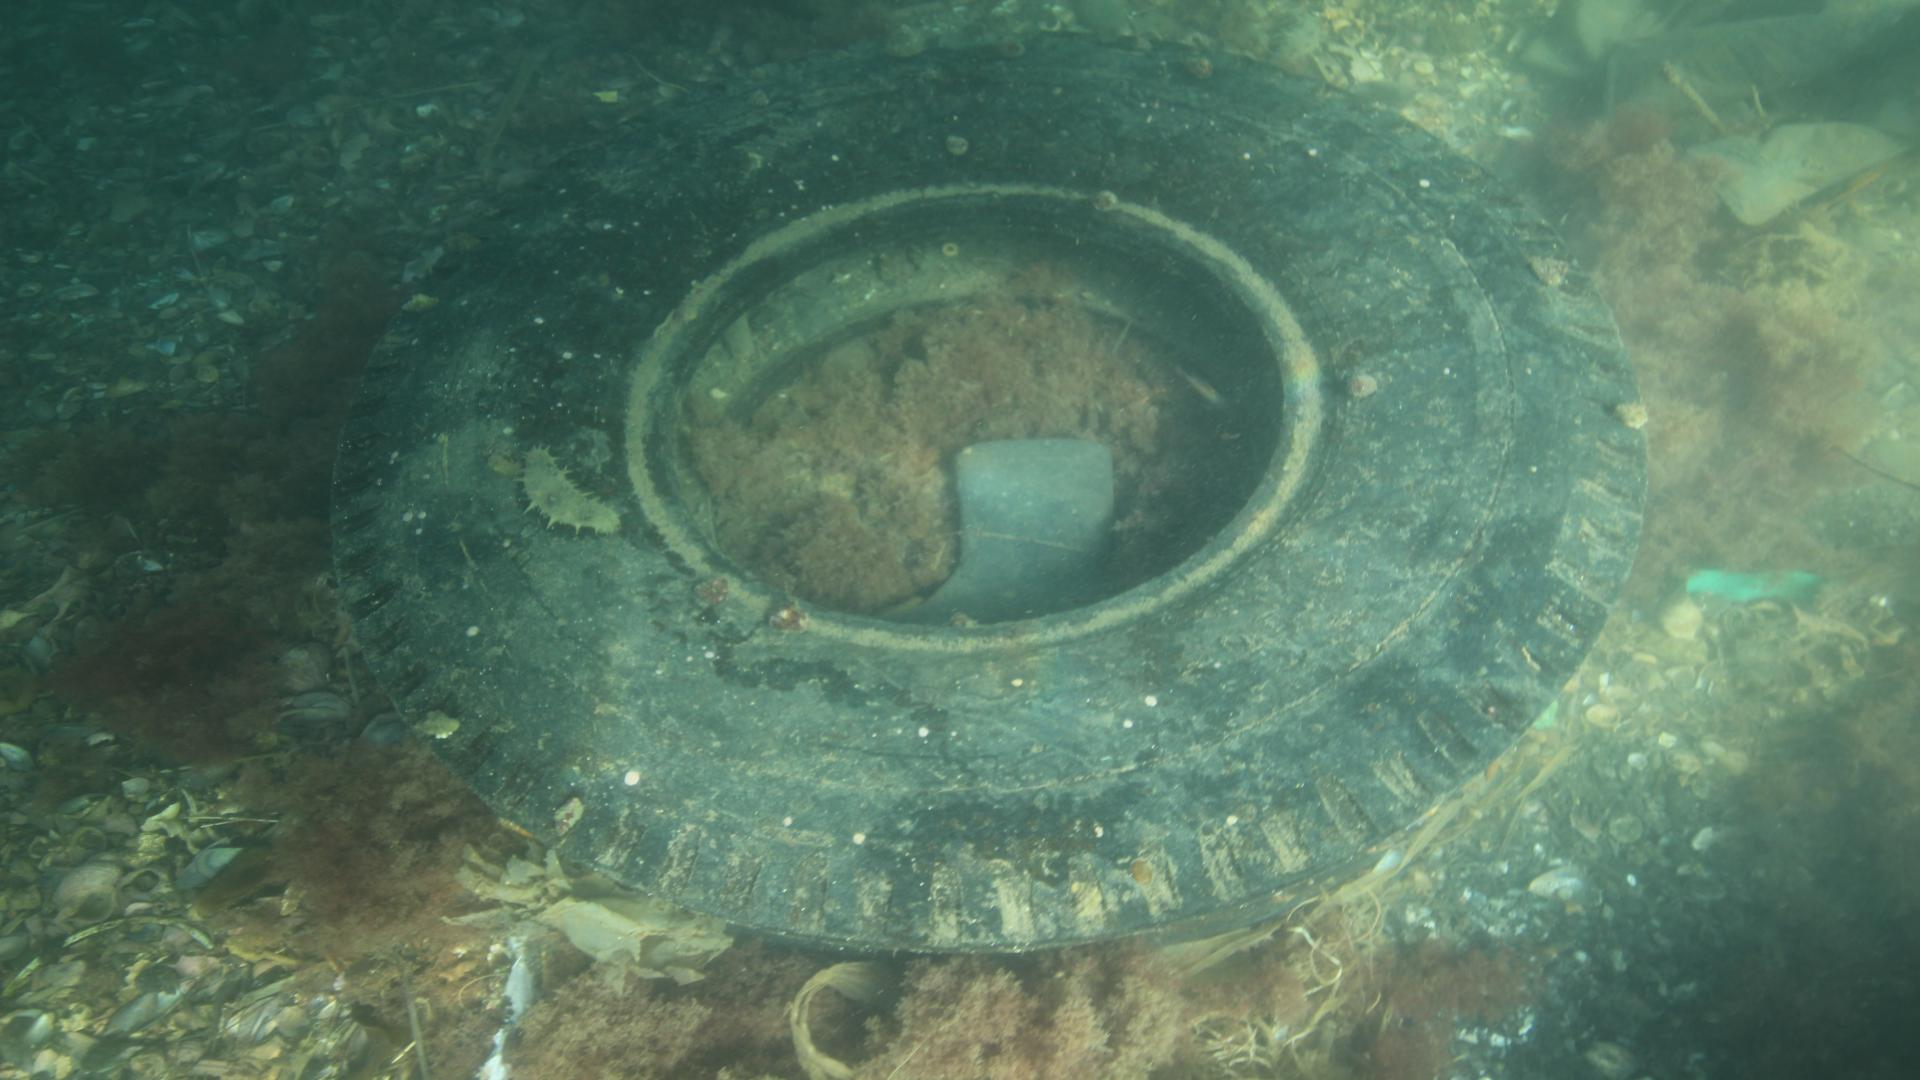tire: (327, 32, 1650, 953)
